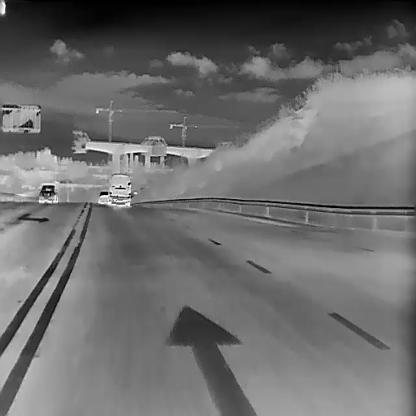car: (109, 174, 131, 207), (38, 183, 58, 203), (98, 190, 109, 203)
